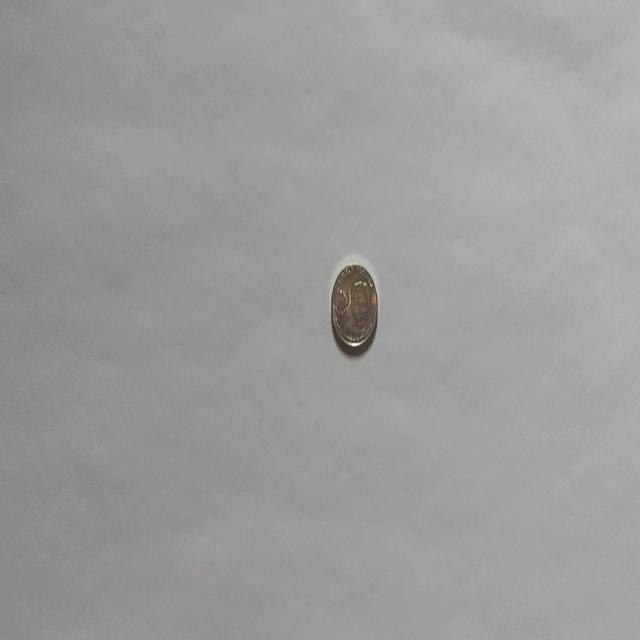seratus rupiah: (330, 262, 378, 350)
